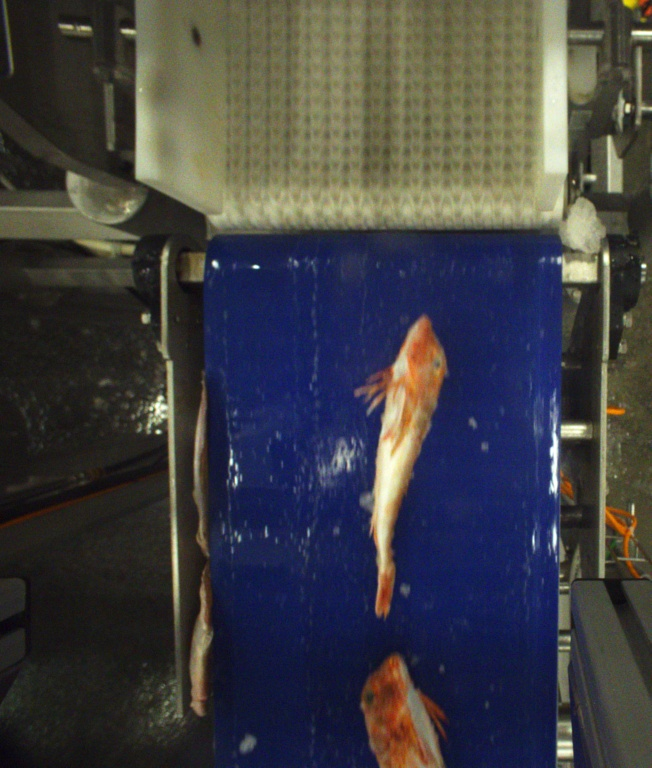GUU: (361, 314, 450, 618)
